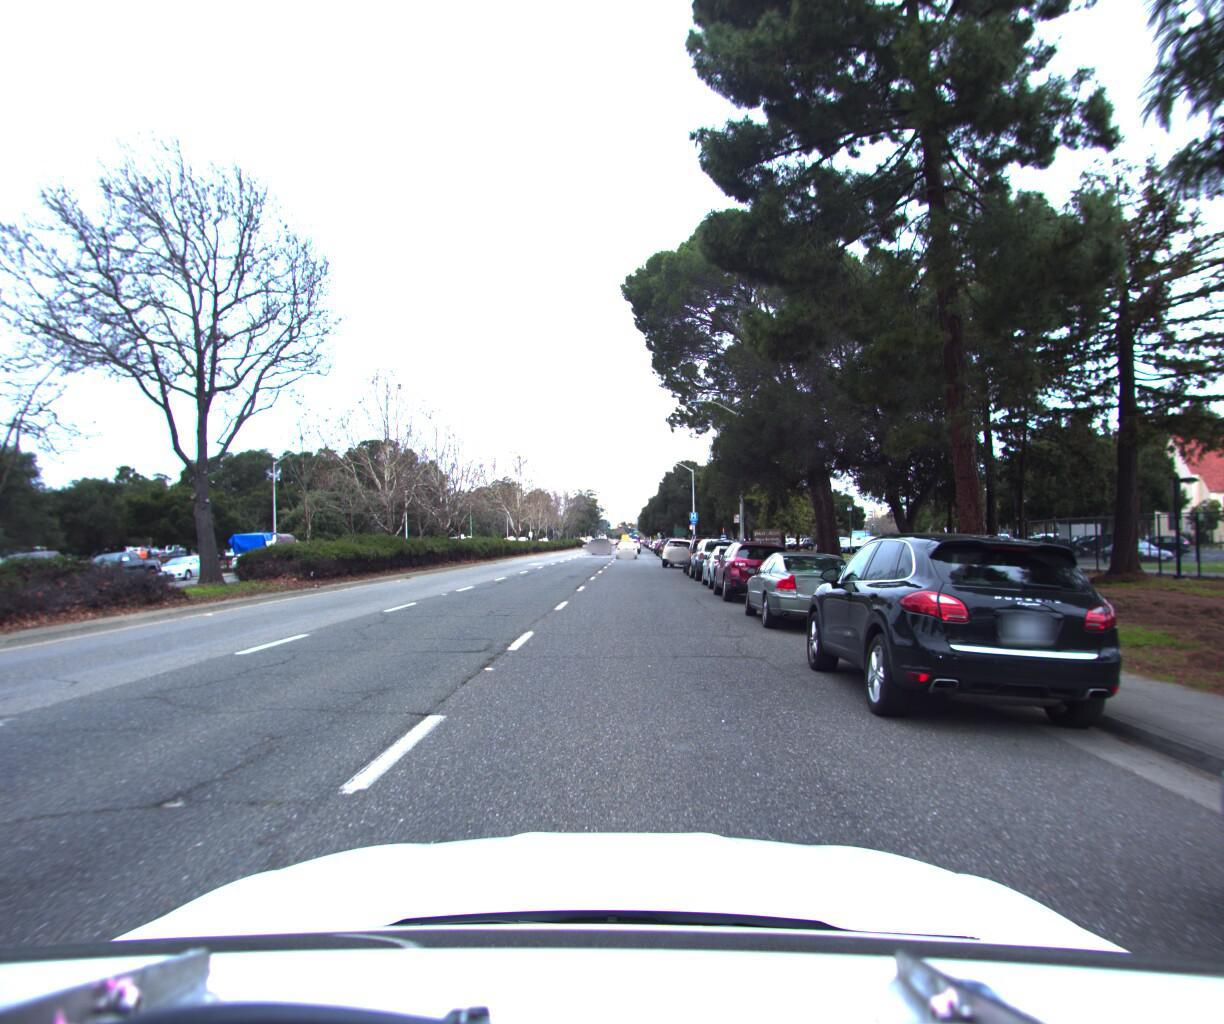car: (795, 516, 1137, 752), (740, 539, 872, 635), (708, 530, 802, 603), (0, 547, 97, 593), (62, 546, 167, 587), (698, 538, 763, 588), (686, 529, 742, 577), (149, 550, 227, 581), (679, 526, 729, 570), (658, 531, 702, 562), (613, 535, 636, 554), (592, 531, 612, 550)
other_vehicle: (223, 527, 303, 574)
